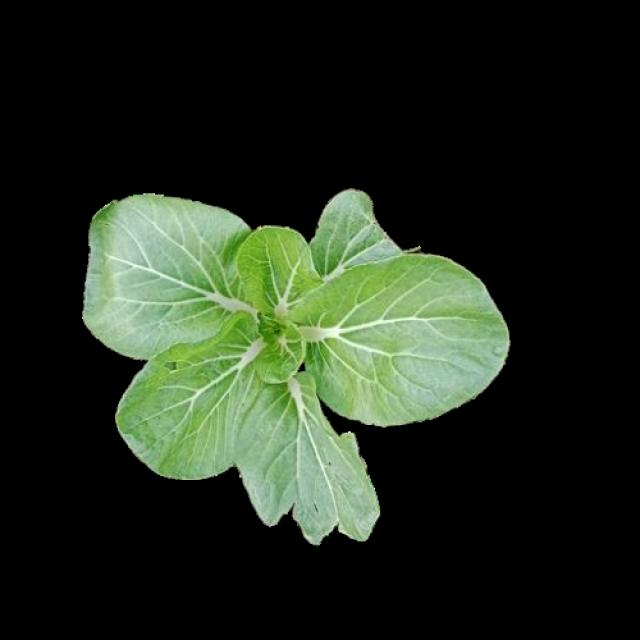mature: (86, 191, 506, 545)
unhealthy: (116, 325, 258, 479), (240, 393, 372, 540), (303, 194, 406, 272)
